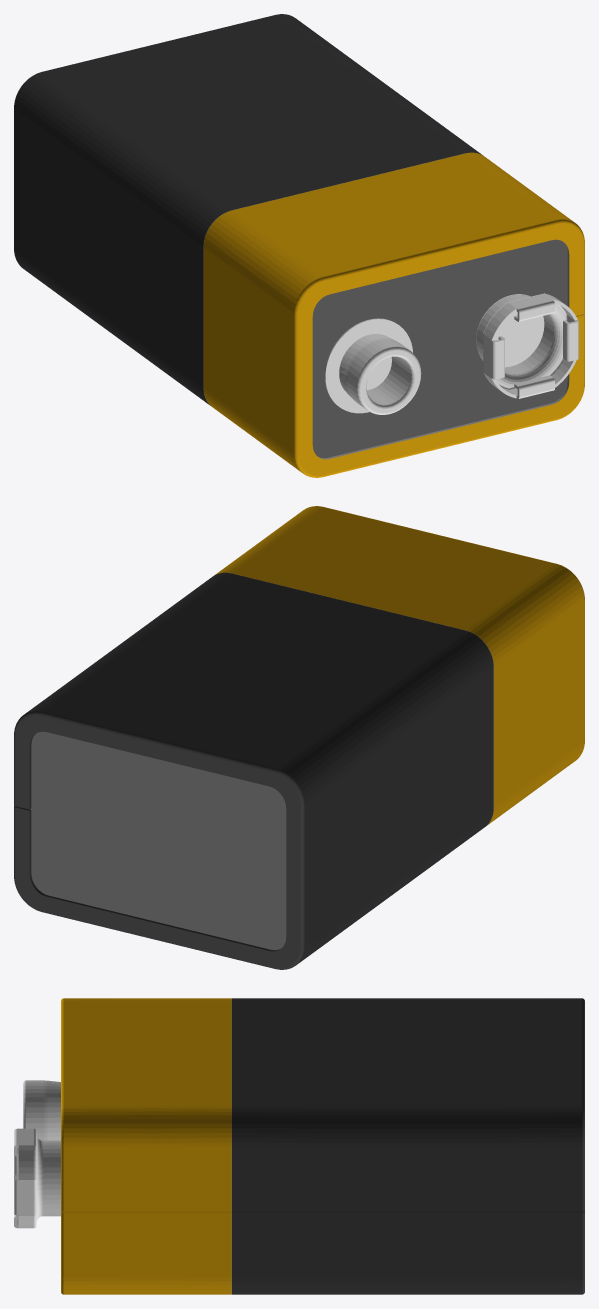
File: 9V-battery.glb
3 renders of one model, top to bottom at view 1: azimuth 30°, elevation 25°; view 2: azimuth 150°, elevation 25°; view 3: azimuth 270°, elevation 25°, orthographic. The views are drawn at different scales.
Parts seen in each view (by area): view 1: Node1; view 2: Node1; view 3: Node1.
Boxes of the visible parts, box(x1,y1,x2,y2) form: Node1: box(14, 14, 584, 477); Node1: box(14, 506, 584, 969); Node1: box(14, 998, 584, 1294).
Size of the model in its own units: 2.6 by 1.71 by 4.79.
